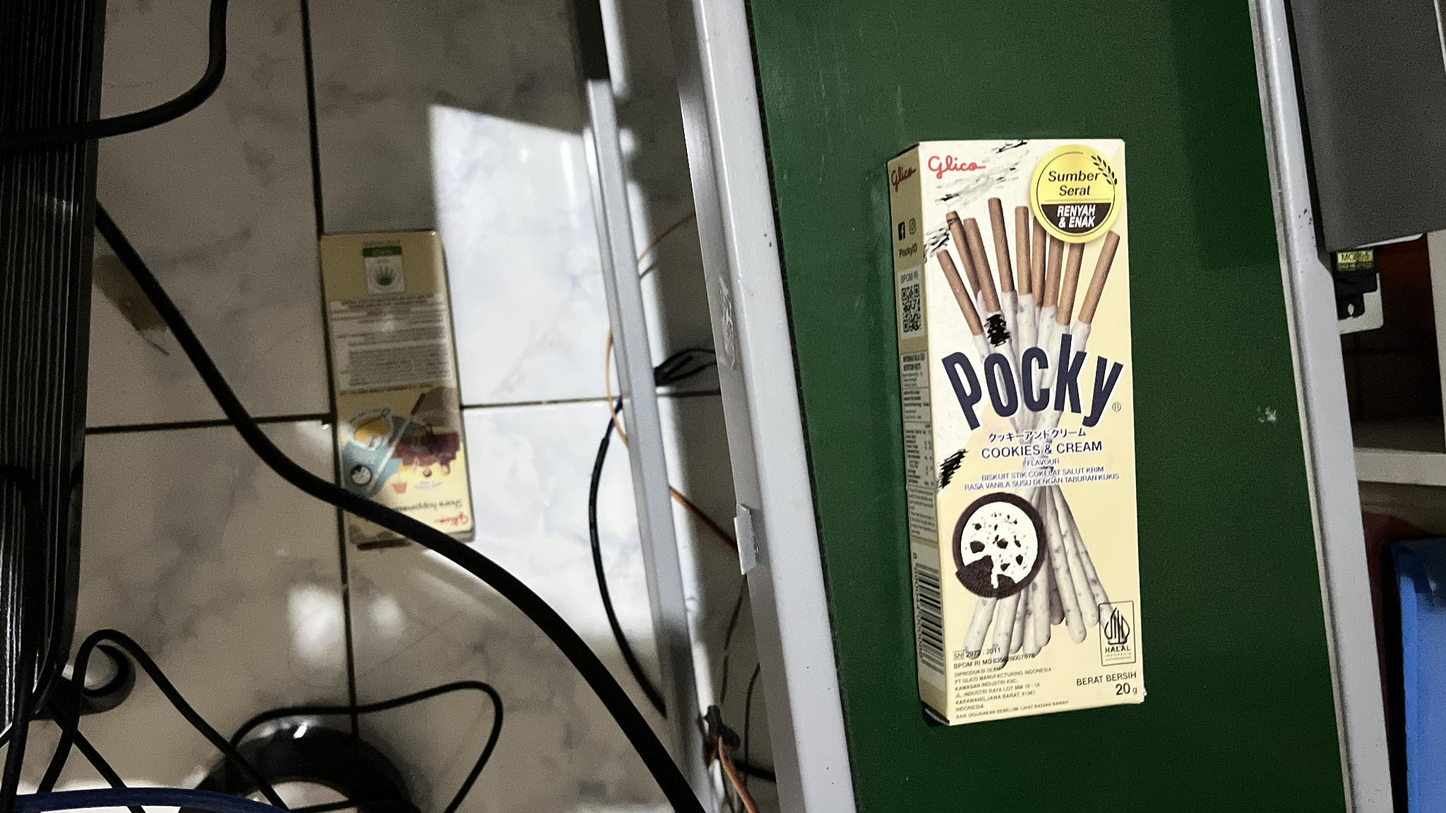Kertas: (915, 142, 1148, 729)
